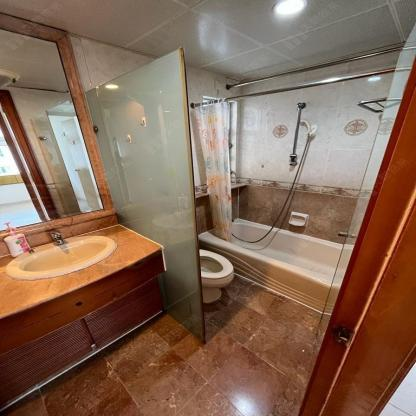Bathtub: (198, 217, 342, 311)
Toilet: (200, 249, 232, 301)
Toilet Sink: (3, 235, 117, 280)
